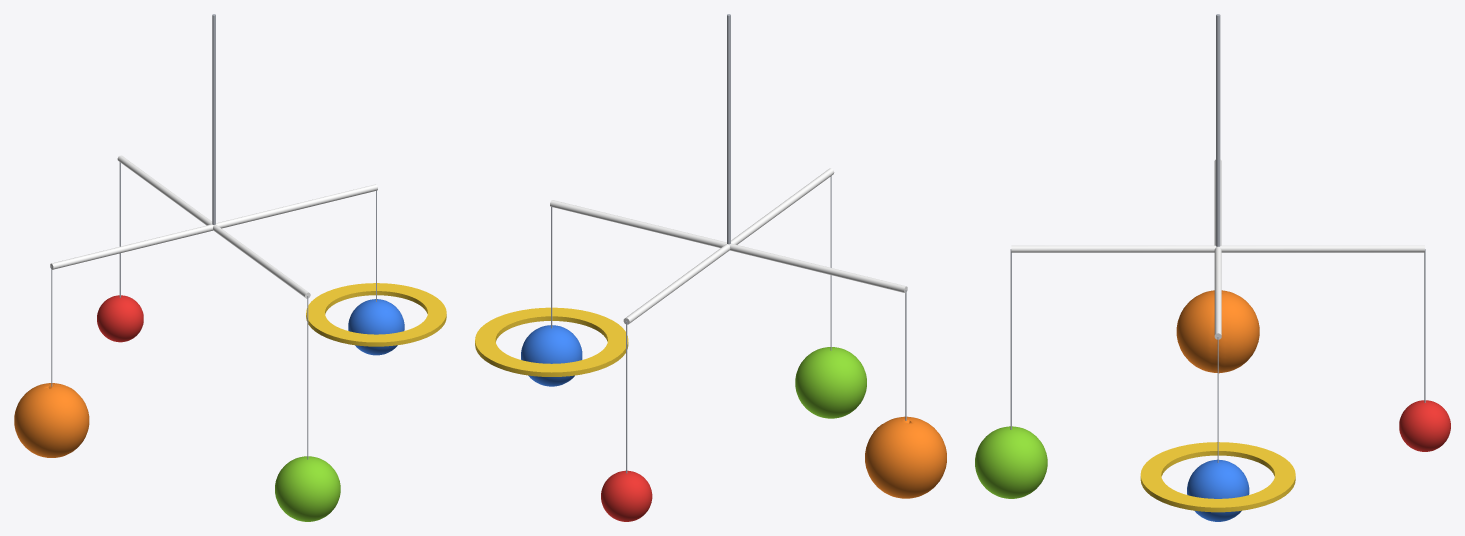
Rendered from mobile.glb.
The picture shows the model from 3 angles, left to right: view 1: azimuth 30°, elevation 25°; view 2: azimuth 150°, elevation 25°; view 3: azimuth 270°, elevation 25°; orthographic projection. The views are drawn at different scales.
Parts seen in each view (by area): view 1: mobile.001; view 2: mobile.001; view 3: mobile.001.
Part boxes in pixels (bbox=[...]): mobile.001: bbox=[14, 14, 446, 521]; mobile.001: bbox=[475, 14, 946, 521]; mobile.001: bbox=[975, 14, 1450, 521].
Bounding box in the file's own units: 206 × 205 × 184.
